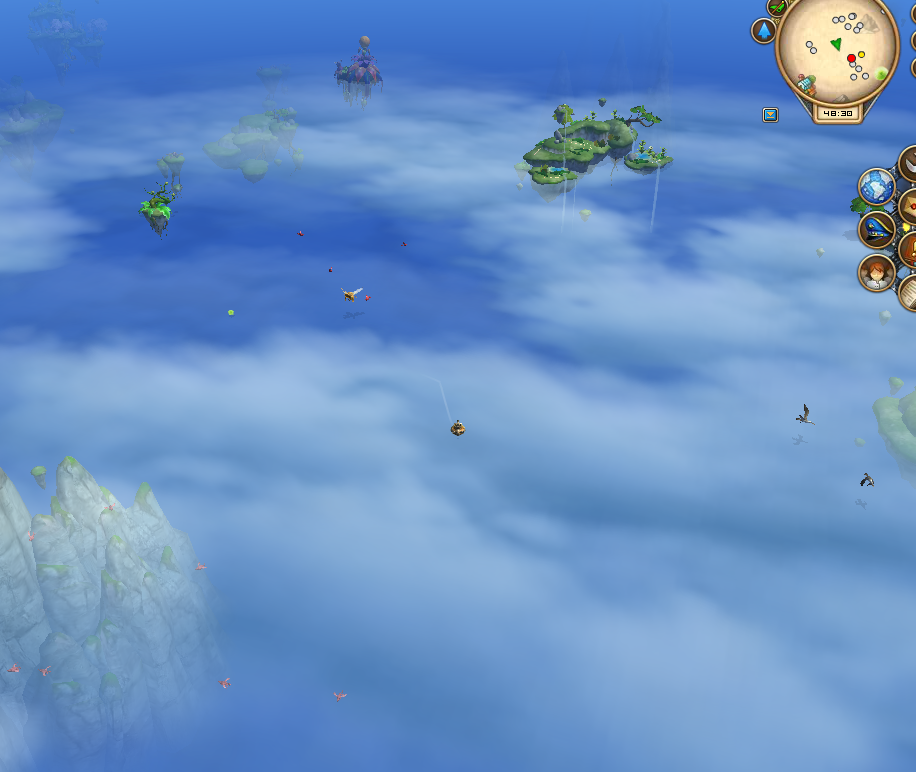dandelion-empty: (135, 178, 184, 234)
fluff: (224, 305, 237, 320)
